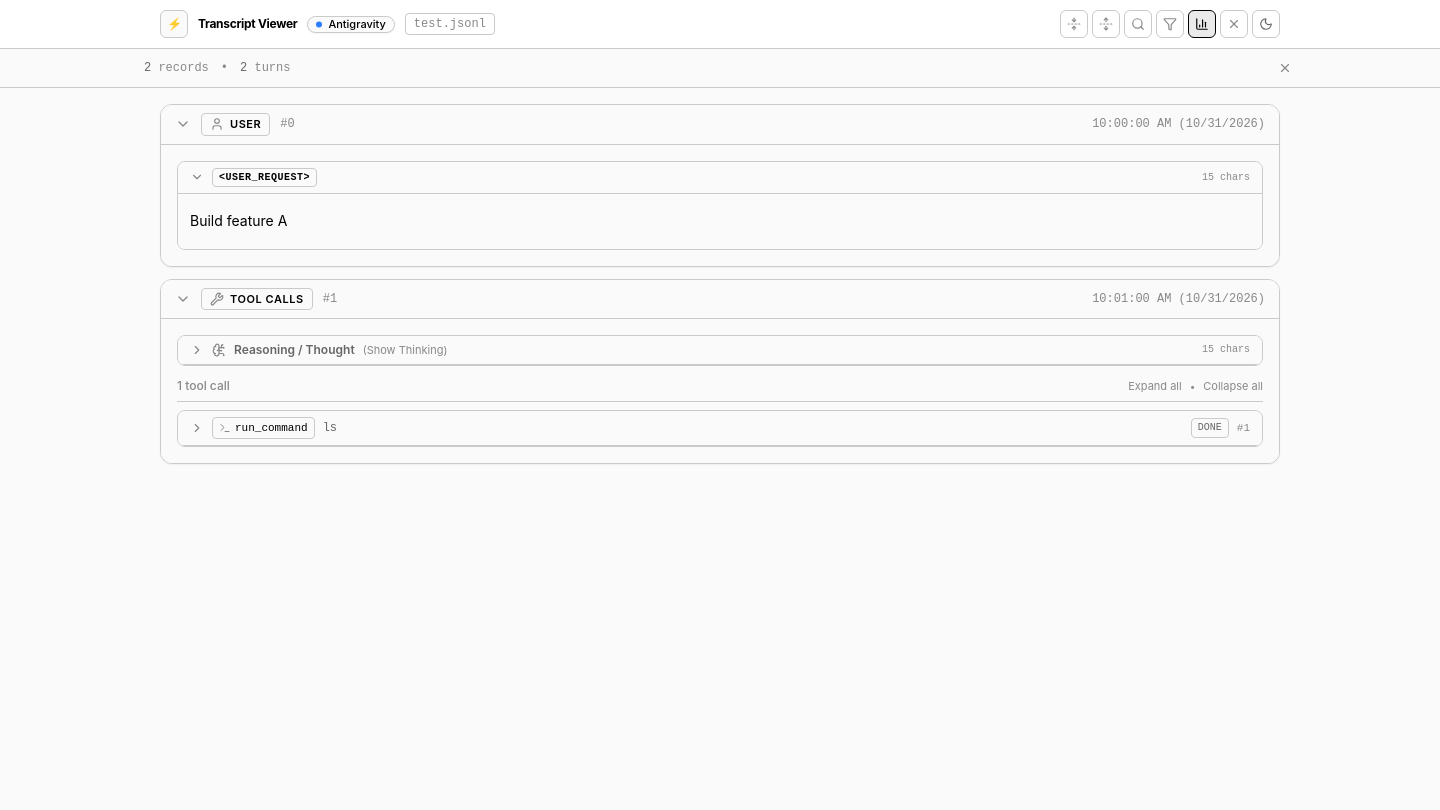
Test: Application Layout & Global Orchestration (App.vue) › View Transitions & TopNavBar › returns to UploadView when clicking the Close button to unload file
Click the button named "Close transcript / Open another file" at [1234, 24], box x1=1220 y1=10 x2=1248 y2=38
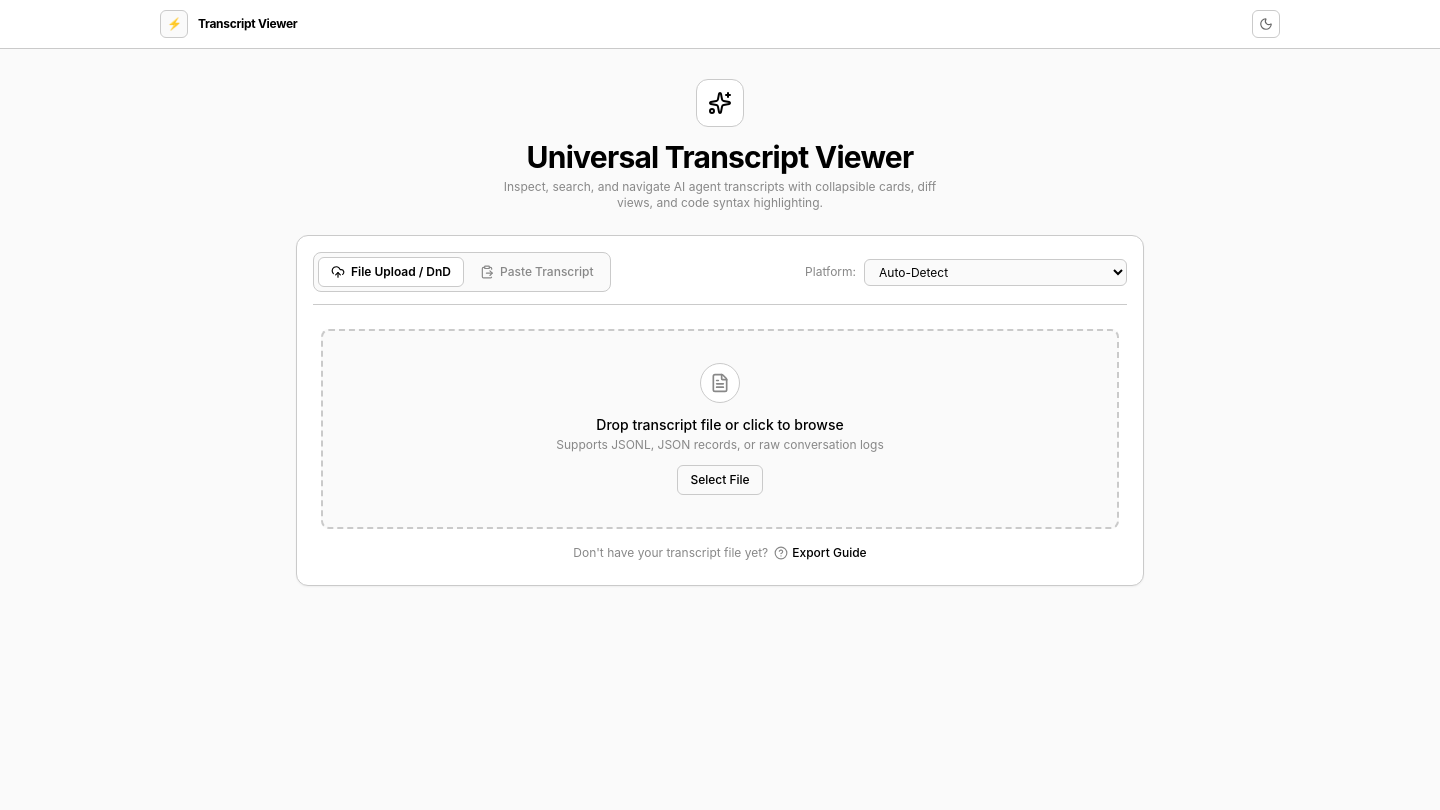
Check: the element that starts with "Universal Transcript Viewer" is shown, box x1=272 y1=49 x2=1168 y2=616
